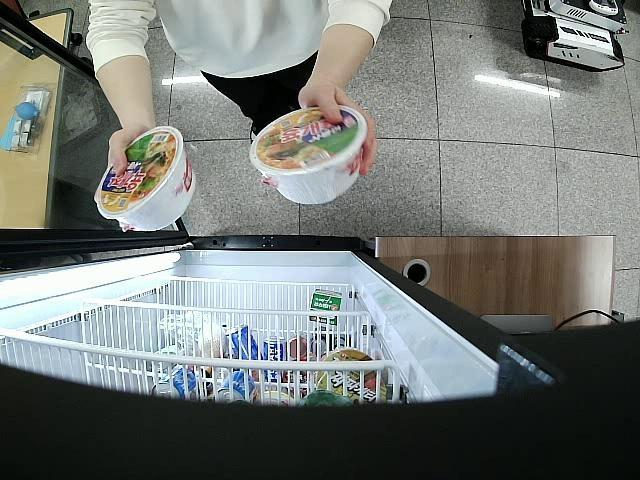09_yukGaeJang: (250, 107, 368, 204), (94, 126, 196, 234)
